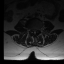CCS_normal: (33, 28, 35, 36)
LFS_severe_stenosis: (37, 28, 38, 32)
LLS_stenosis: (35, 28, 36, 32)
RFS_severe_stenosis: (31, 28, 32, 32)
RLS_severe_stenosis: (32, 28, 34, 32)
